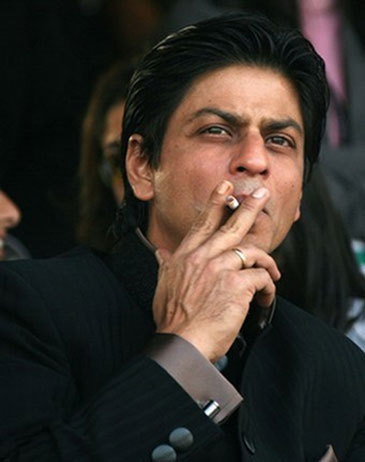cigarette: (215, 188, 250, 219)
